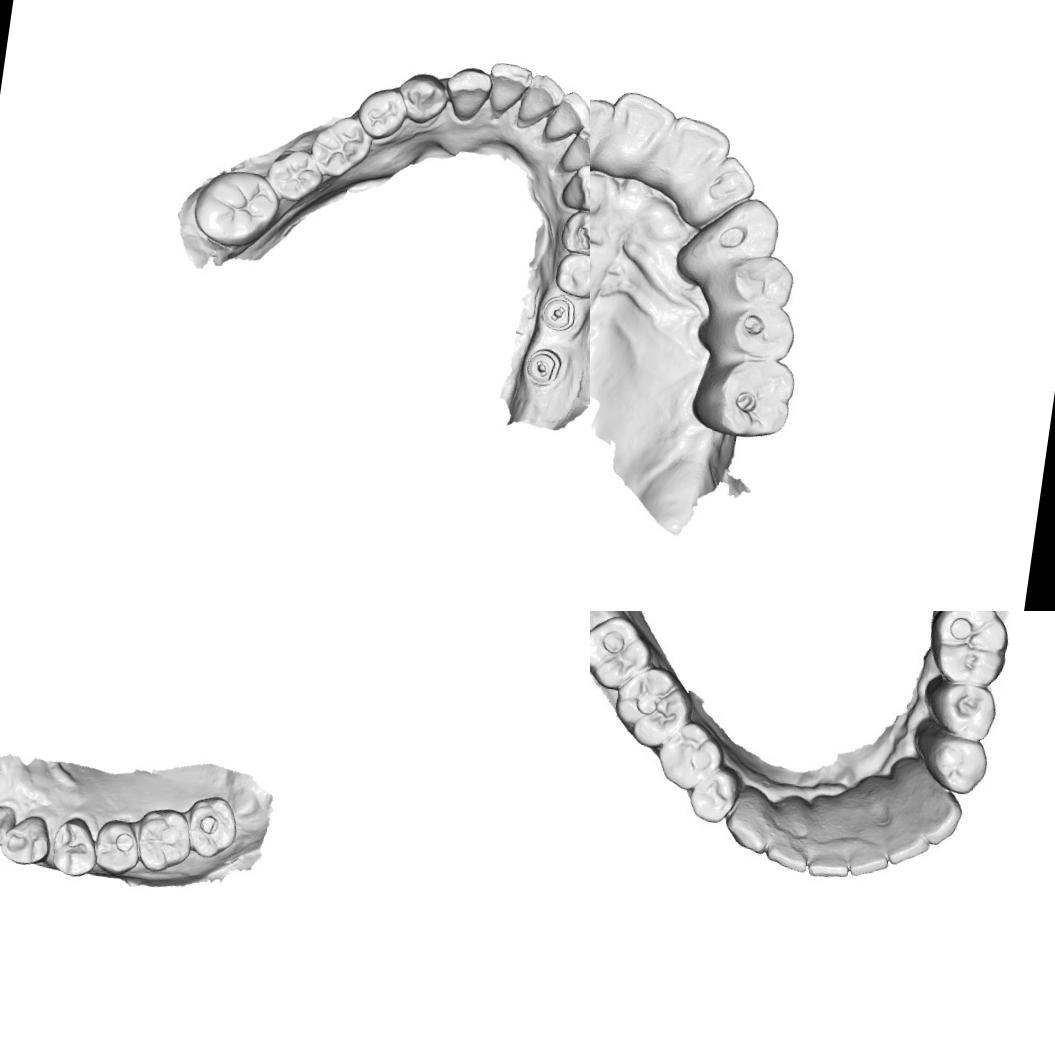canine: (691, 190, 783, 276), (719, 786, 777, 859), (906, 780, 966, 848), (441, 61, 494, 125), (0, 810, 54, 869), (557, 158, 590, 215)
implant_minus: (521, 346, 567, 390), (537, 293, 578, 334)
incisor: (604, 88, 678, 166), (654, 111, 734, 178), (701, 150, 760, 210), (841, 826, 900, 882), (763, 816, 817, 876), (483, 58, 534, 119), (516, 70, 568, 128), (882, 818, 939, 870), (542, 86, 590, 147), (804, 826, 856, 882), (557, 120, 590, 178), (590, 94, 615, 161), (0, 798, 17, 851)
molar: (684, 348, 798, 444), (188, 164, 284, 254), (923, 611, 1013, 692), (612, 665, 693, 746), (590, 613, 656, 696), (130, 803, 198, 879), (307, 110, 376, 182), (180, 790, 242, 864), (262, 144, 328, 208)
premolar: (700, 294, 801, 367), (709, 245, 800, 313), (928, 732, 992, 799), (658, 726, 724, 788), (934, 681, 1000, 742), (46, 812, 102, 881), (354, 81, 411, 144), (90, 814, 144, 880), (394, 68, 452, 128), (686, 765, 740, 826), (550, 248, 590, 303), (555, 206, 590, 258)
